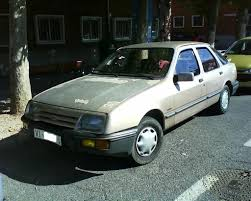car: (21, 41, 238, 163), (222, 36, 251, 90)
